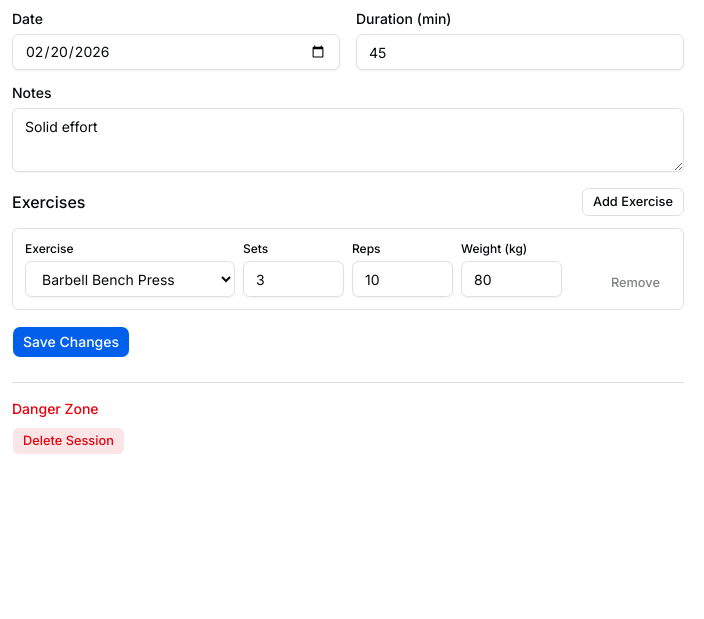
it: EditWorkoutSessionForm › editWorkoutSessionForm_newExerciseRow_isSentWithoutIdInParsedRows
The width and height of the screenshot is (704, 619).
Click the button "Add Exercise".
click(633, 202)  # box left=582, top=188, right=684, bottom=216
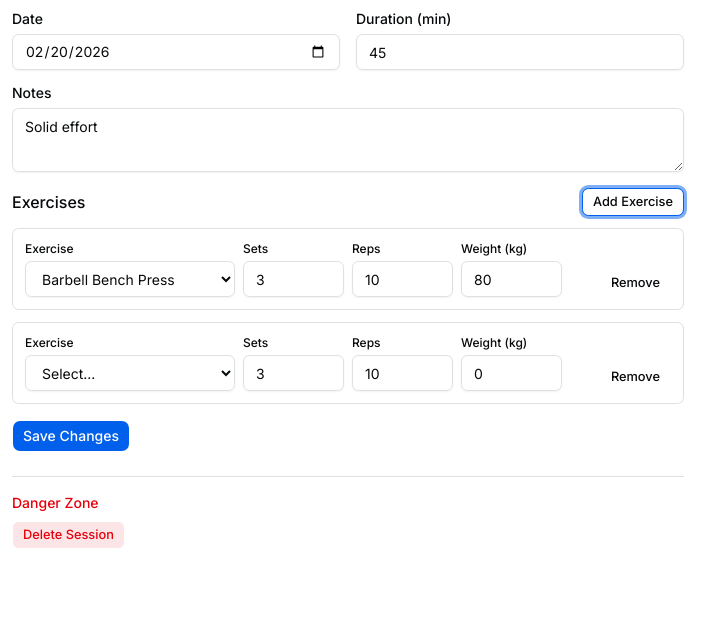
Select "Cable Row" in the 2nd dropdown at (130, 373), box left=25, top=355, right=235, bottom=391
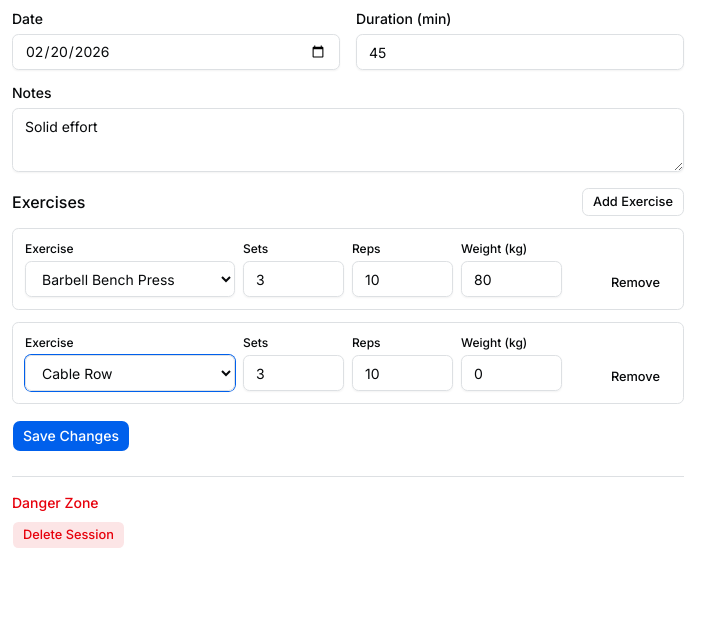
Click the button "Save Changes".
click(71, 436)  # box left=12, top=420, right=130, bottom=452
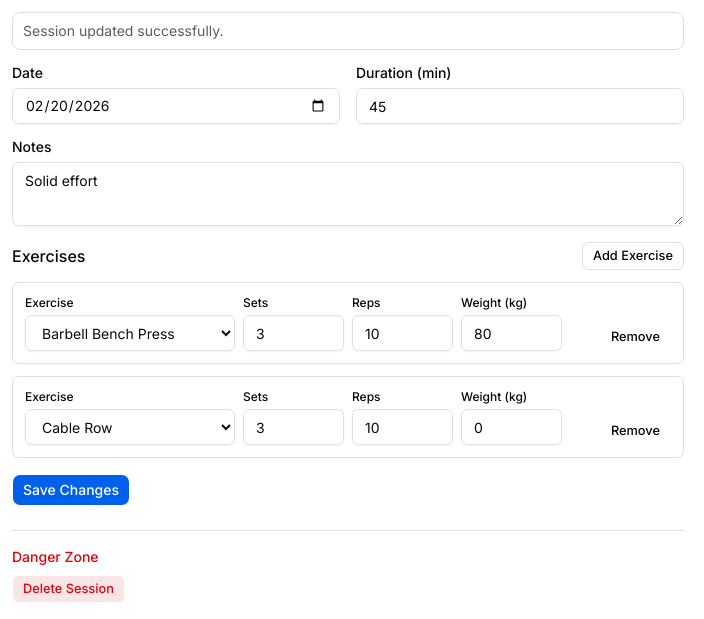
Expected: the text "Session updated successfully." is shown, left=23, top=22, right=224, bottom=39
